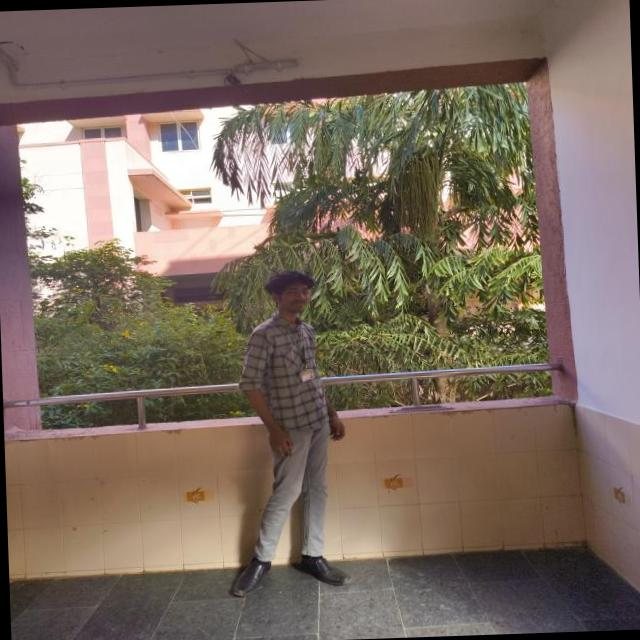id_card: (288, 324, 314, 384)
